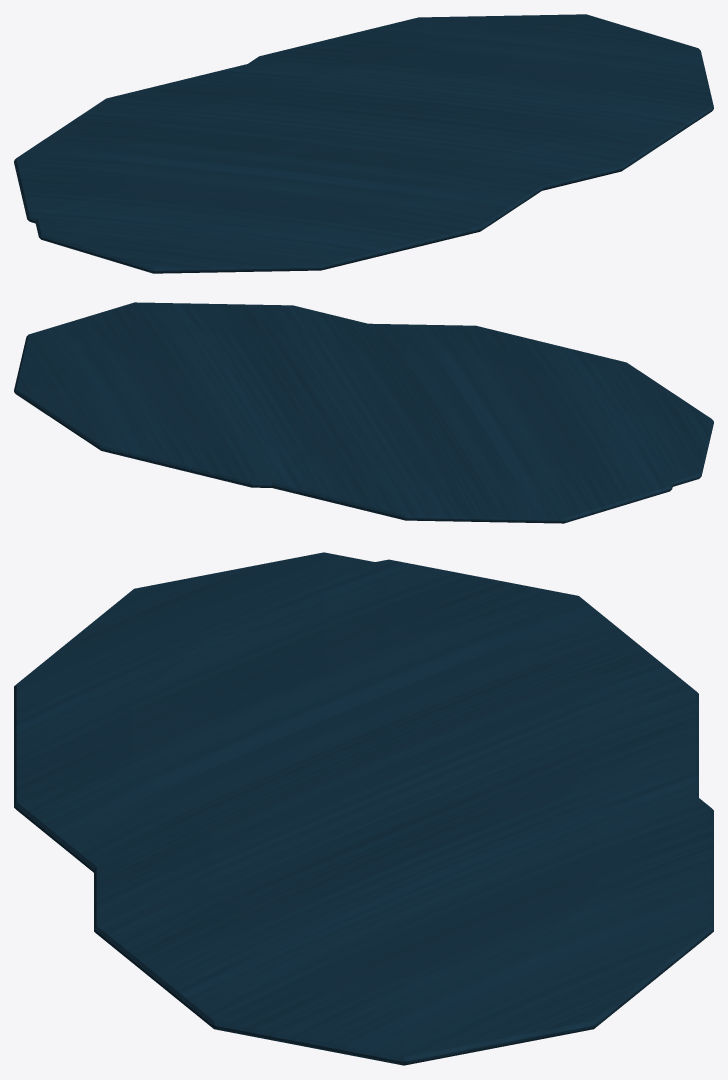
Rendered from PROP-50249ED4F3ED_lod1.glb.
3 views of the same model, one above another, from view 1: azimuth 30°, elevation 25°; view 2: azimuth 150°, elevation 25°; view 3: azimuth 270°, elevation 25° (orthographic). The views are drawn at different scales.
Visible parts, largest first — view 1: surface_hazard.006; view 2: surface_hazard.006; view 3: surface_hazard.006.
Boxes of the visible parts, left/top/right/bottom form: surface_hazard.006: left=14, top=14, right=713, bottom=273; surface_hazard.006: left=14, top=302, right=713, bottom=523; surface_hazard.006: left=14, top=552, right=713, bottom=1065.
Size of the model in its own units: 1.51 by 0.036 by 0.8781.
Materials: 1 (1 with a texture image).
